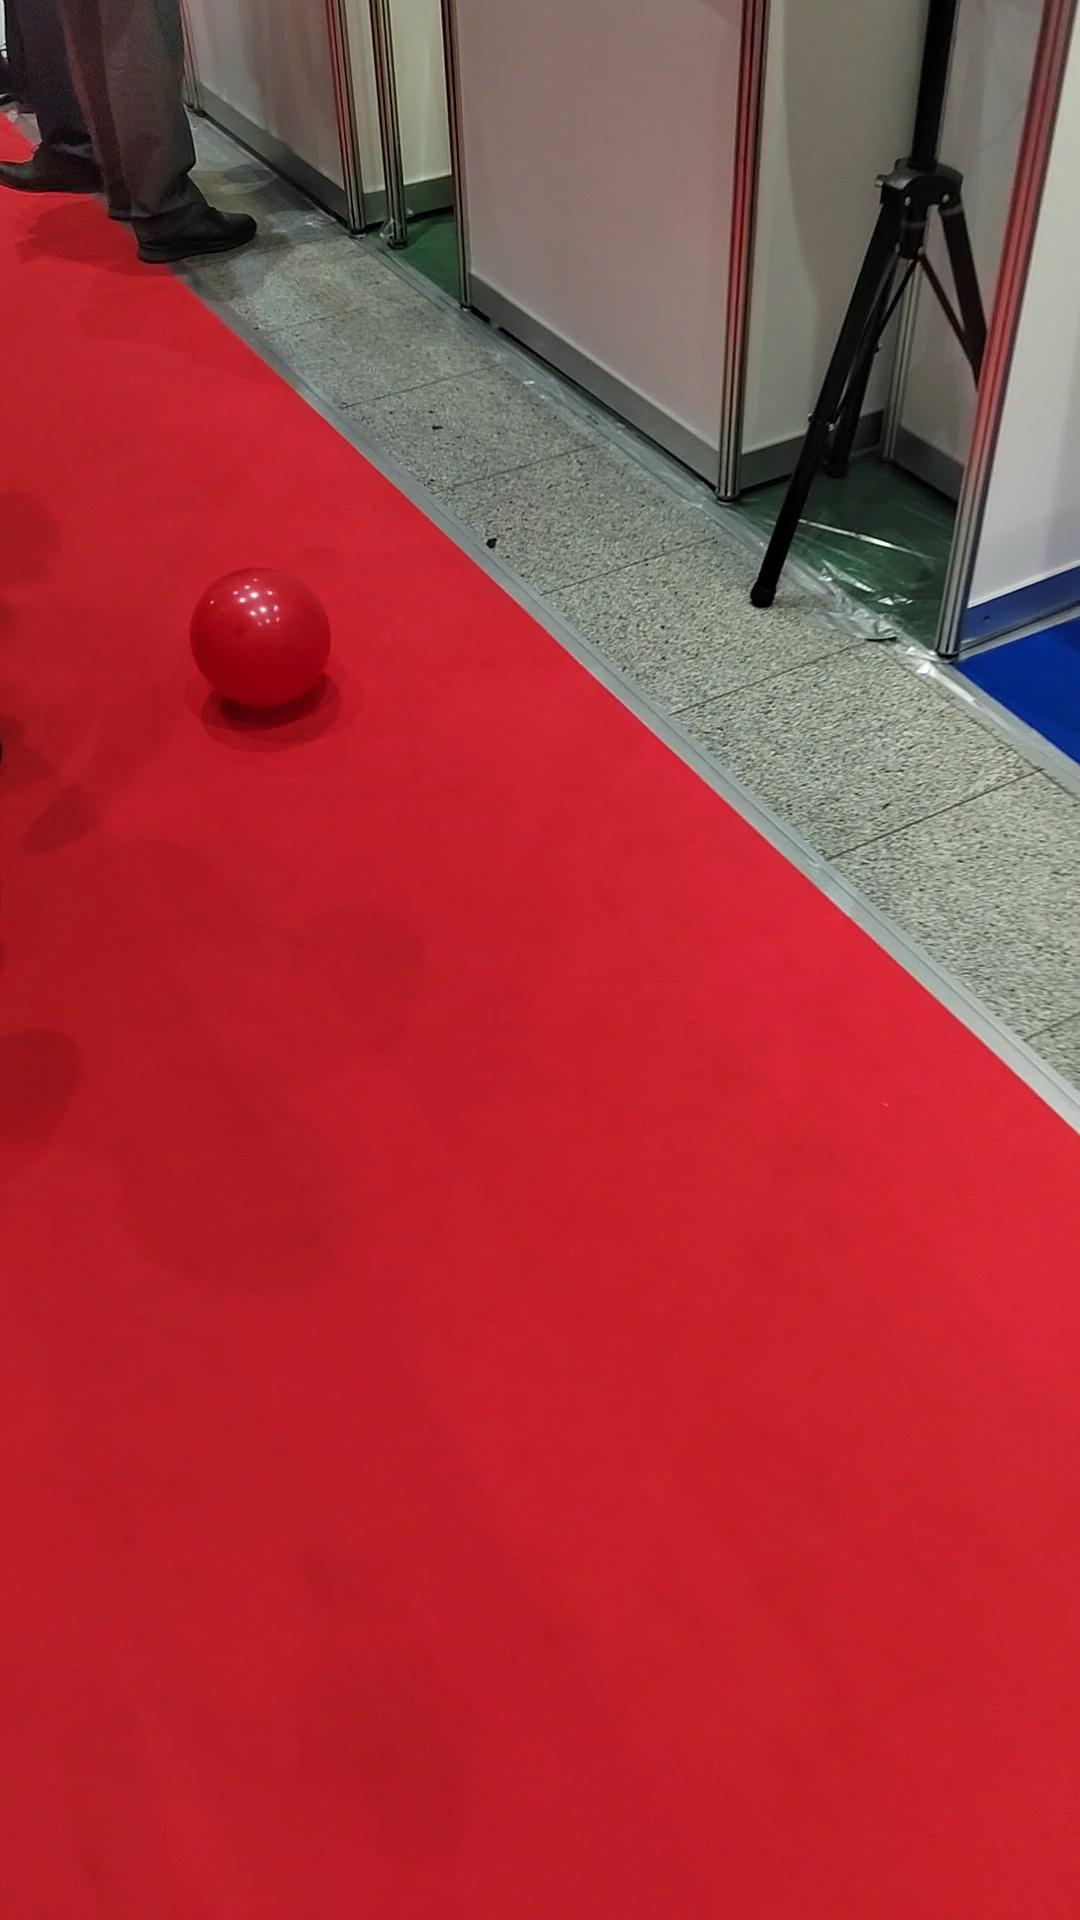red: (189, 568, 332, 709)
